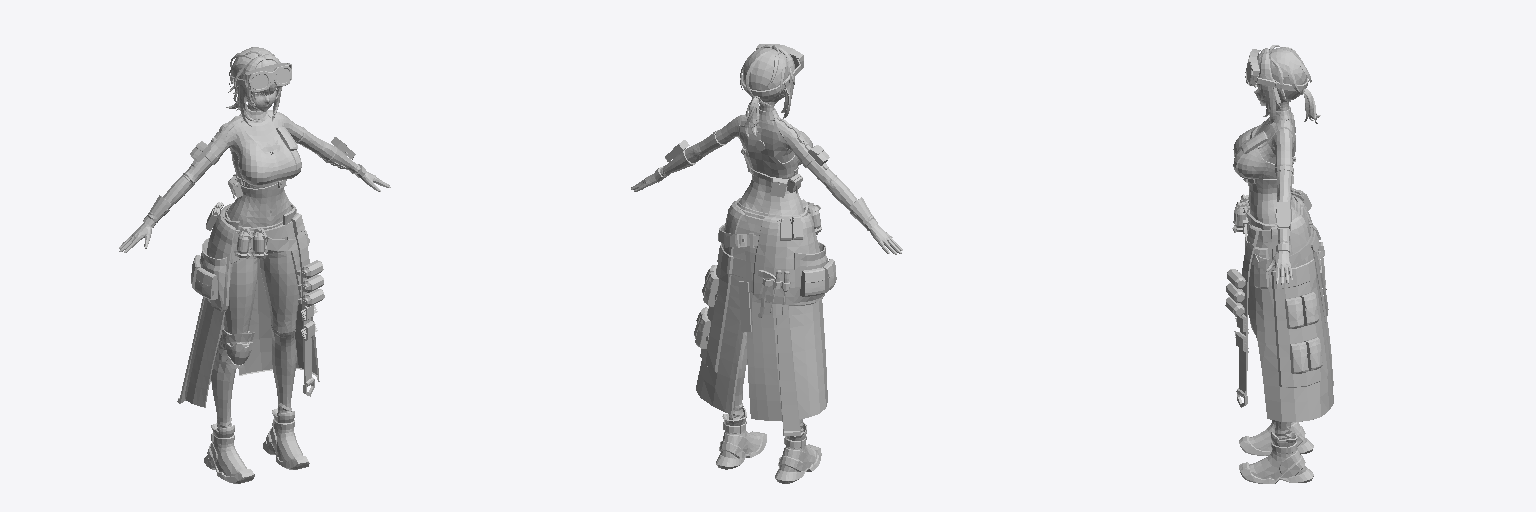
Rendered from grace.obj.
3 views of the same model, side by side, from view 1: azimuth 30°, elevation 25°; view 2: azimuth 150°, elevation 25°; view 3: azimuth 270°, elevation 25° (orthographic).
Parts seen in each view (by area): view 1: Body.dmx, Body_skirt.dmx, Bodyhair.dmx, Body_glasses.dmx, Body_calf_pad.dmx; view 2: Body_skirt.dmx, Body.dmx, Bodyhair.dmx, Body_glasses.dmx; view 3: Body_skirt.dmx, Body.dmx, Bodyhair.dmx, Body_glasses.dmx.
Part boxes in pixels (x1,y1,x2,y2): Body.dmx: (119,107,390,483); Body_skirt.dmx: (177,202,324,407); Bodyhair.dmx: (228,47,282,126); Body_glasses.dmx: (230,63,291,91); Body_calf_pad.dmx: (222,332,254,368); Body_skirt.dmx: (694,198,836,435); Body.dmx: (631,107,902,483); Bodyhair.dmx: (740,45,794,118); Body_glasses.dmx: (742,44,803,95); Body_skirt.dmx: (1225,188,1333,421); Body.dmx: (1233,106,1313,483); Bodyhair.dmx: (1254,45,1311,124); Body_glasses.dmx: (1245,49,1308,103).
Size of the model in its own units: 1 by 1.47 by 0.3485.